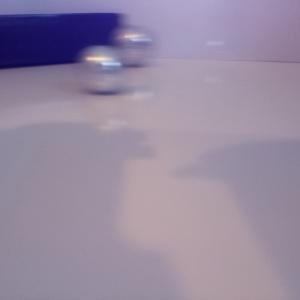zone: (1, 12, 120, 68)
